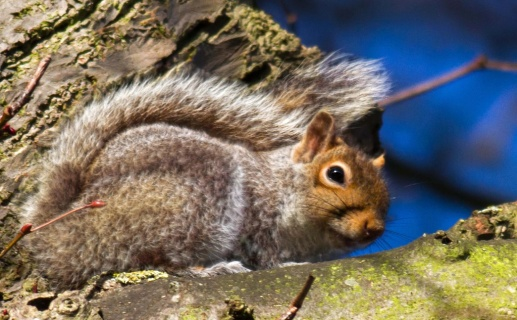Squirrel: (0, 46, 432, 288)
